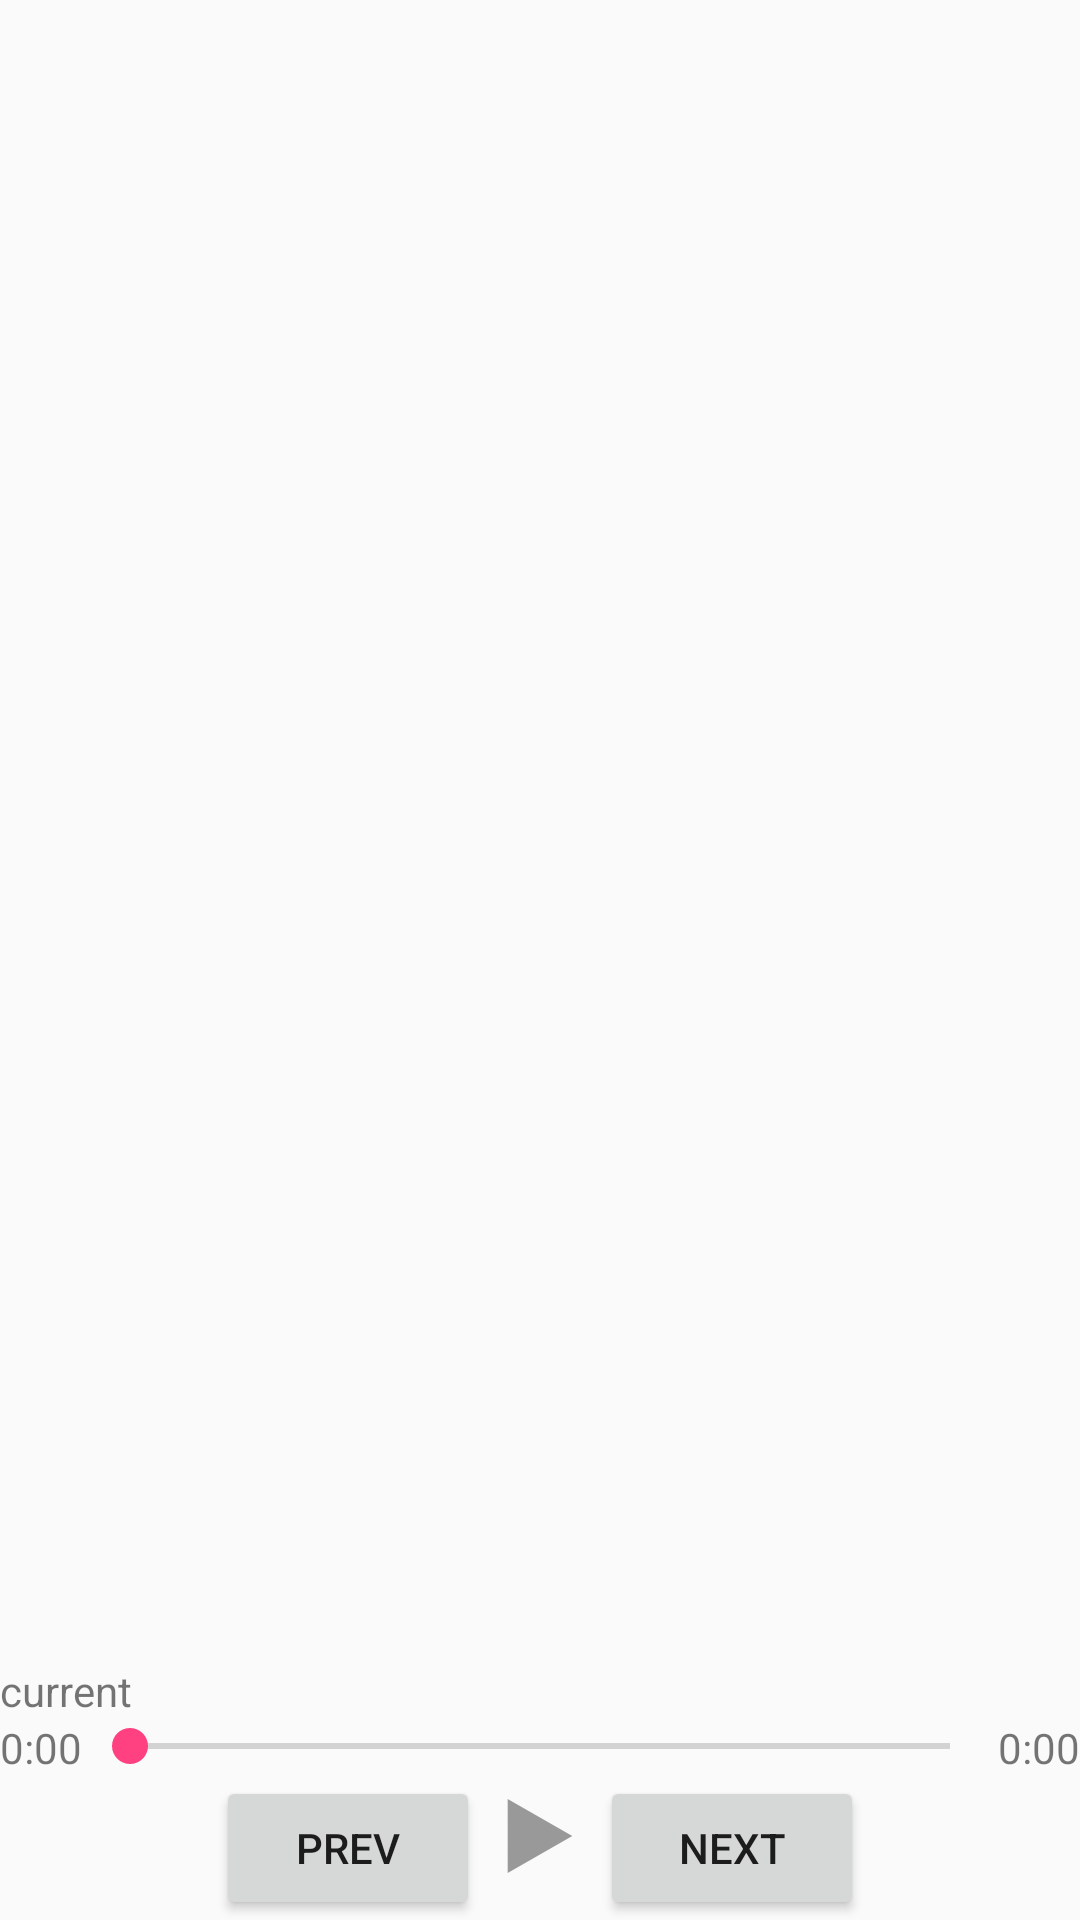

Named icons in this screenshot (1080×1920) and their centers, [x,y]:
play: [539,1836]
